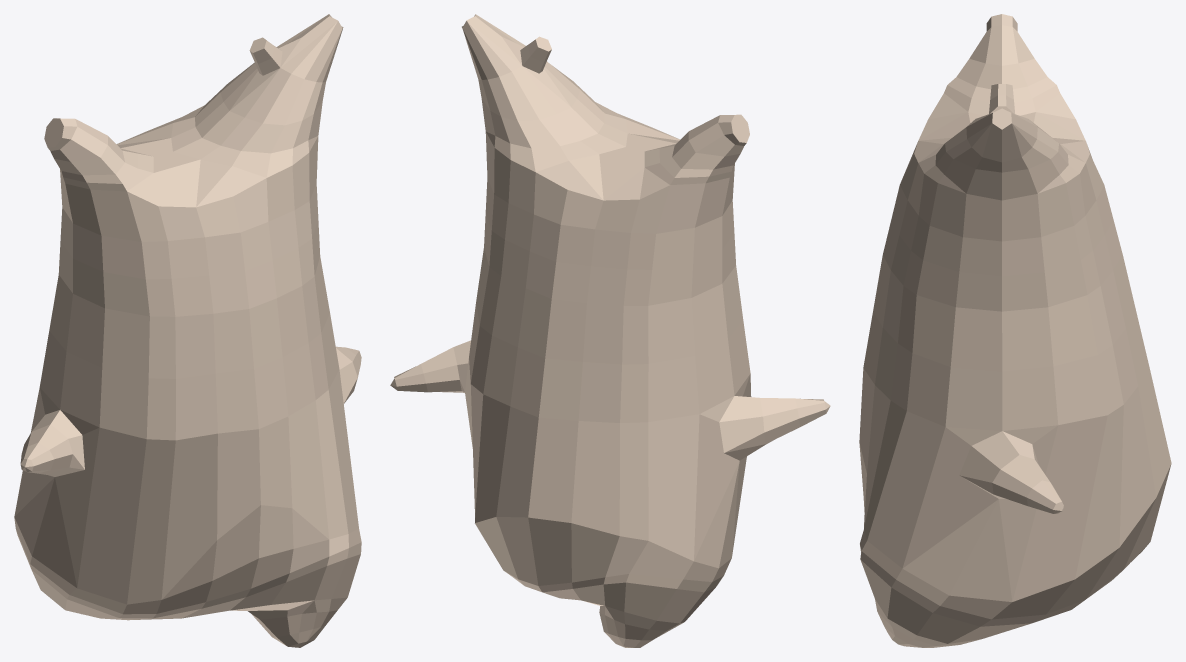
Rendered from frame_0006.obj.
3 renders of one model, left to right at view 1: azimuth 30°, elevation 25°; view 2: azimuth 150°, elevation 25°; view 3: azimuth 270°, elevation 25°, orthographic. The views are drawn at different scales.
Parts seen in each view (by area): view 1: korok; view 2: korok; view 3: korok.
Part boxes in pixels (left/top/right/bottom): korok: left=14, top=14, right=361, bottom=647; korok: left=390, top=14, right=830, bottom=647; korok: left=859, top=14, right=1171, bottom=647.
Size of the model in its own units: 1.52 by 2.13 by 1.05.
